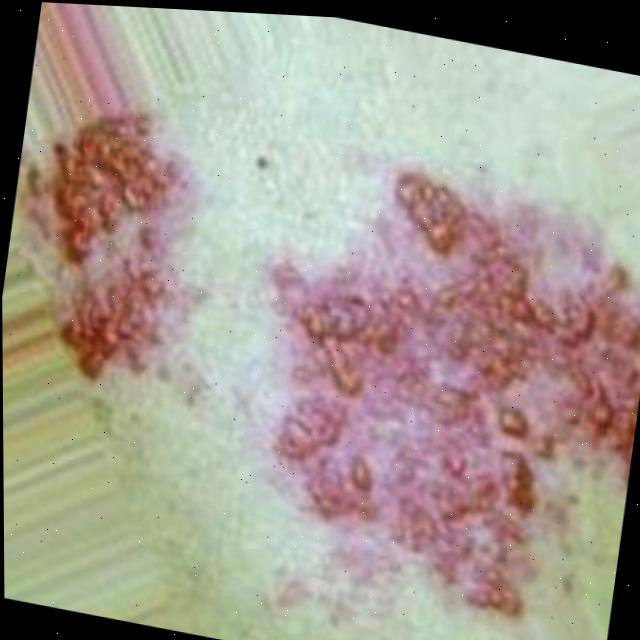Shingles: (217, 133, 640, 640), (2, 94, 221, 402)
